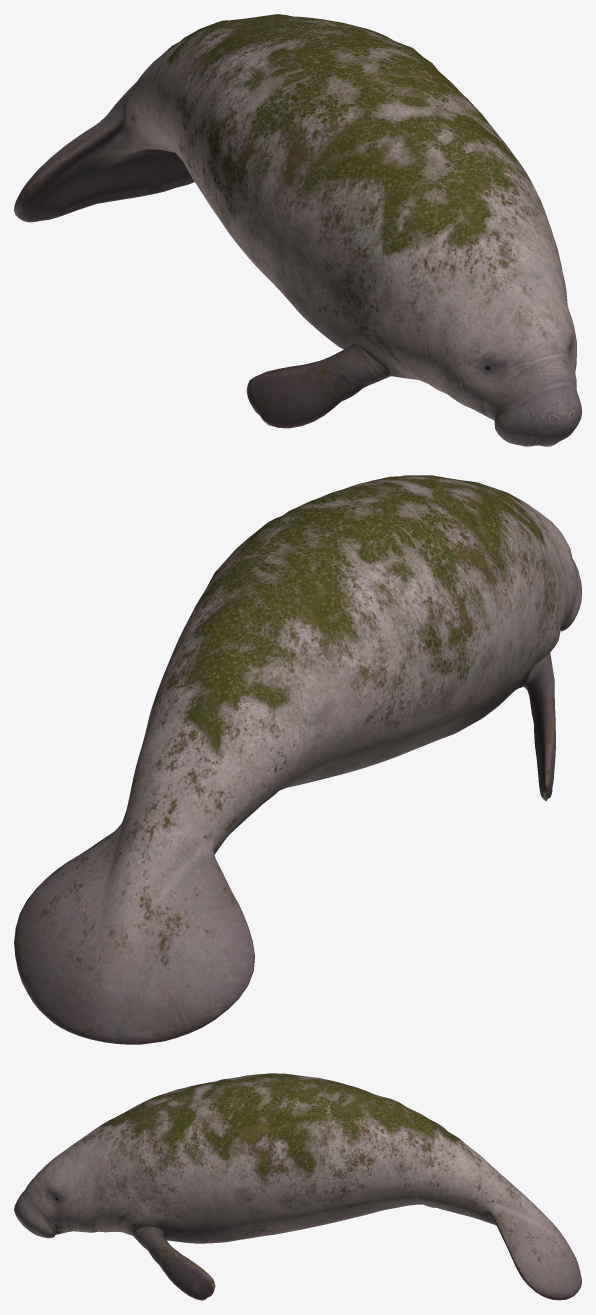
File: manatee.glb
3 views of the same model, one above another, from view 1: azimuth 30°, elevation 25°; view 2: azimuth 150°, elevation 25°; view 3: azimuth 270°, elevation 25° (orthographic). The views are drawn at different scales.
Visible parts, largest first — view 1: lamantin_low:polySurface1; view 2: lamantin_low:polySurface1; view 3: lamantin_low:polySurface1.
Boxes of the visible parts, left/top/right/bottom form: lamantin_low:polySurface1: left=14, top=14, right=581, bottom=446; lamantin_low:polySurface1: left=14, top=475, right=581, bottom=1044; lamantin_low:polySurface1: left=14, top=1073, right=581, bottom=1300.
Bounding box in the file's own units: 1.14 × 1.23 × 3.1.
Materials: 1 (1 with a texture image).
